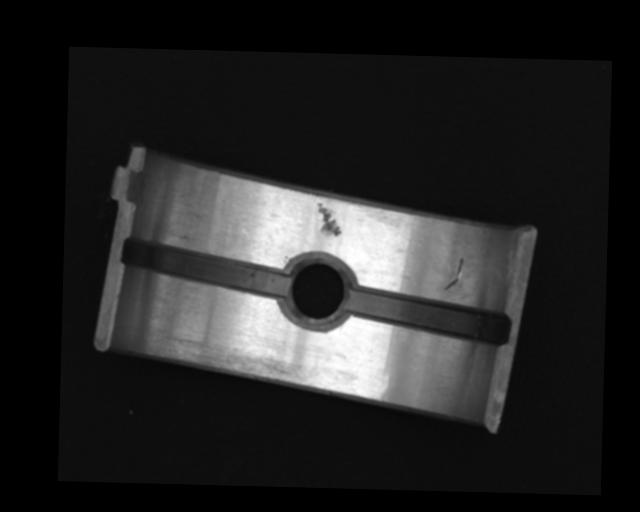bruise: (315, 202, 341, 238)
gap: (120, 239, 289, 297), (345, 288, 510, 345)
hole: (280, 255, 354, 329)
nick: (444, 256, 465, 291)
scratch: (165, 336, 307, 384)
